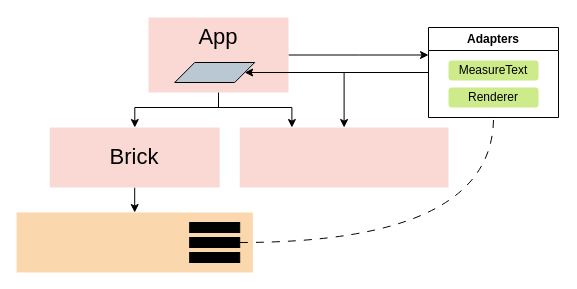
The diagram is 577 pixels wide and 289 high, and some of its shapes have lost their labels. The shapes that lost their labels are listed below. From the top down, each one's centre as x and y in pixels, then its label:
At point (214, 72): "Fonts".
At point (343, 157): "Graphics Lib".
At point (134, 242): "Clay".
